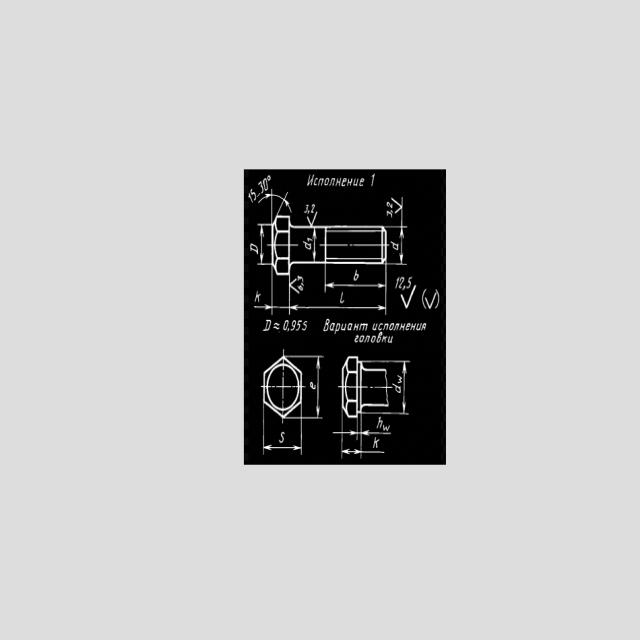marking_line: (253, 277, 389, 315), (332, 419, 392, 462), (254, 276, 305, 315), (323, 265, 388, 291), (262, 420, 304, 457), (303, 353, 325, 420), (389, 359, 411, 416), (332, 418, 391, 438), (256, 189, 296, 213), (388, 224, 408, 267), (257, 223, 271, 266), (311, 229, 318, 261)
numeric: (296, 319, 303, 331), (302, 320, 309, 332), (370, 173, 376, 187), (290, 319, 296, 332), (250, 189, 257, 200), (283, 320, 289, 332), (397, 373, 403, 385), (259, 181, 264, 194), (263, 178, 268, 191), (248, 193, 253, 204), (310, 204, 315, 214), (387, 202, 394, 209), (386, 210, 392, 217), (304, 205, 308, 212)
special_symbol: (398, 286, 418, 309), (420, 288, 441, 309), (424, 293, 437, 309), (391, 196, 401, 216)
